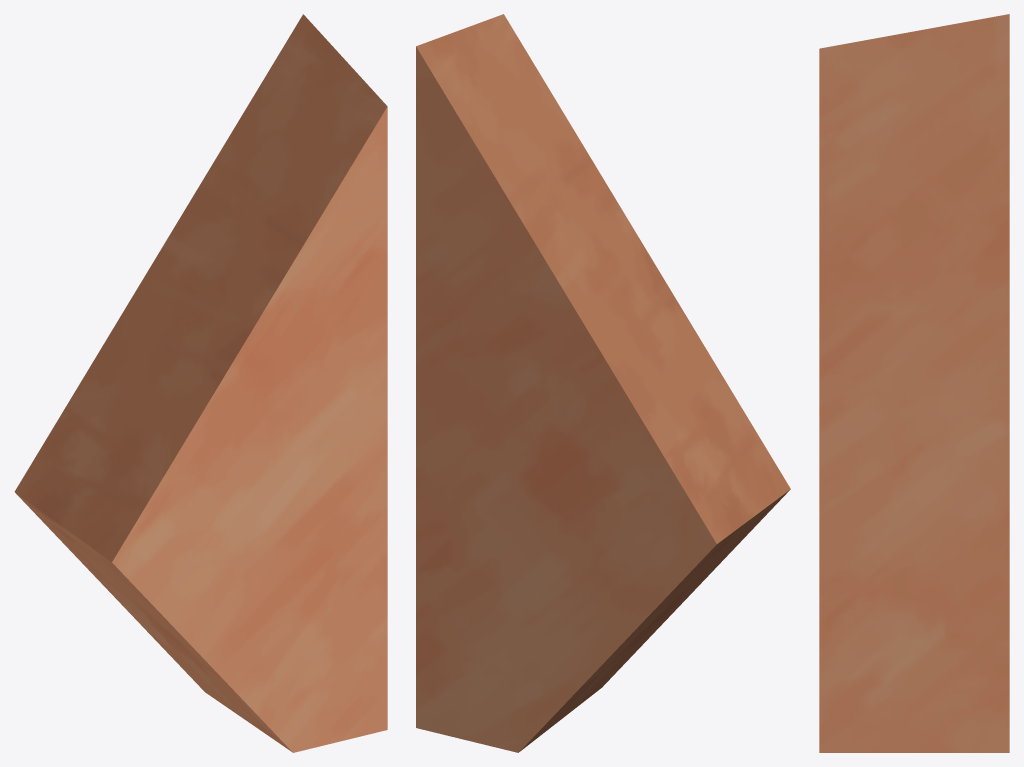
File: wall_upper_window_s05.fbx
3 views of the same model, side by side, from view 1: azimuth 30°, elevation 25°; view 2: azimuth 150°, elevation 25°; view 3: azimuth 270°, elevation 25° (orthographic). The views are drawn at different scales.
Visible parts, largest first — view 1: wall_upper_window_s05; view 2: wall_upper_window_s05; view 3: wall_upper_window_s05.
Boxes of the visible parts, left/top/right/bottom form: wall_upper_window_s05: left=14, top=14, right=387, bottom=752; wall_upper_window_s05: left=416, top=14, right=790, bottom=752; wall_upper_window_s05: left=819, top=14, right=1009, bottom=752.
Bounding box in the file's own units: 1.98 × 4.28 × 1.
